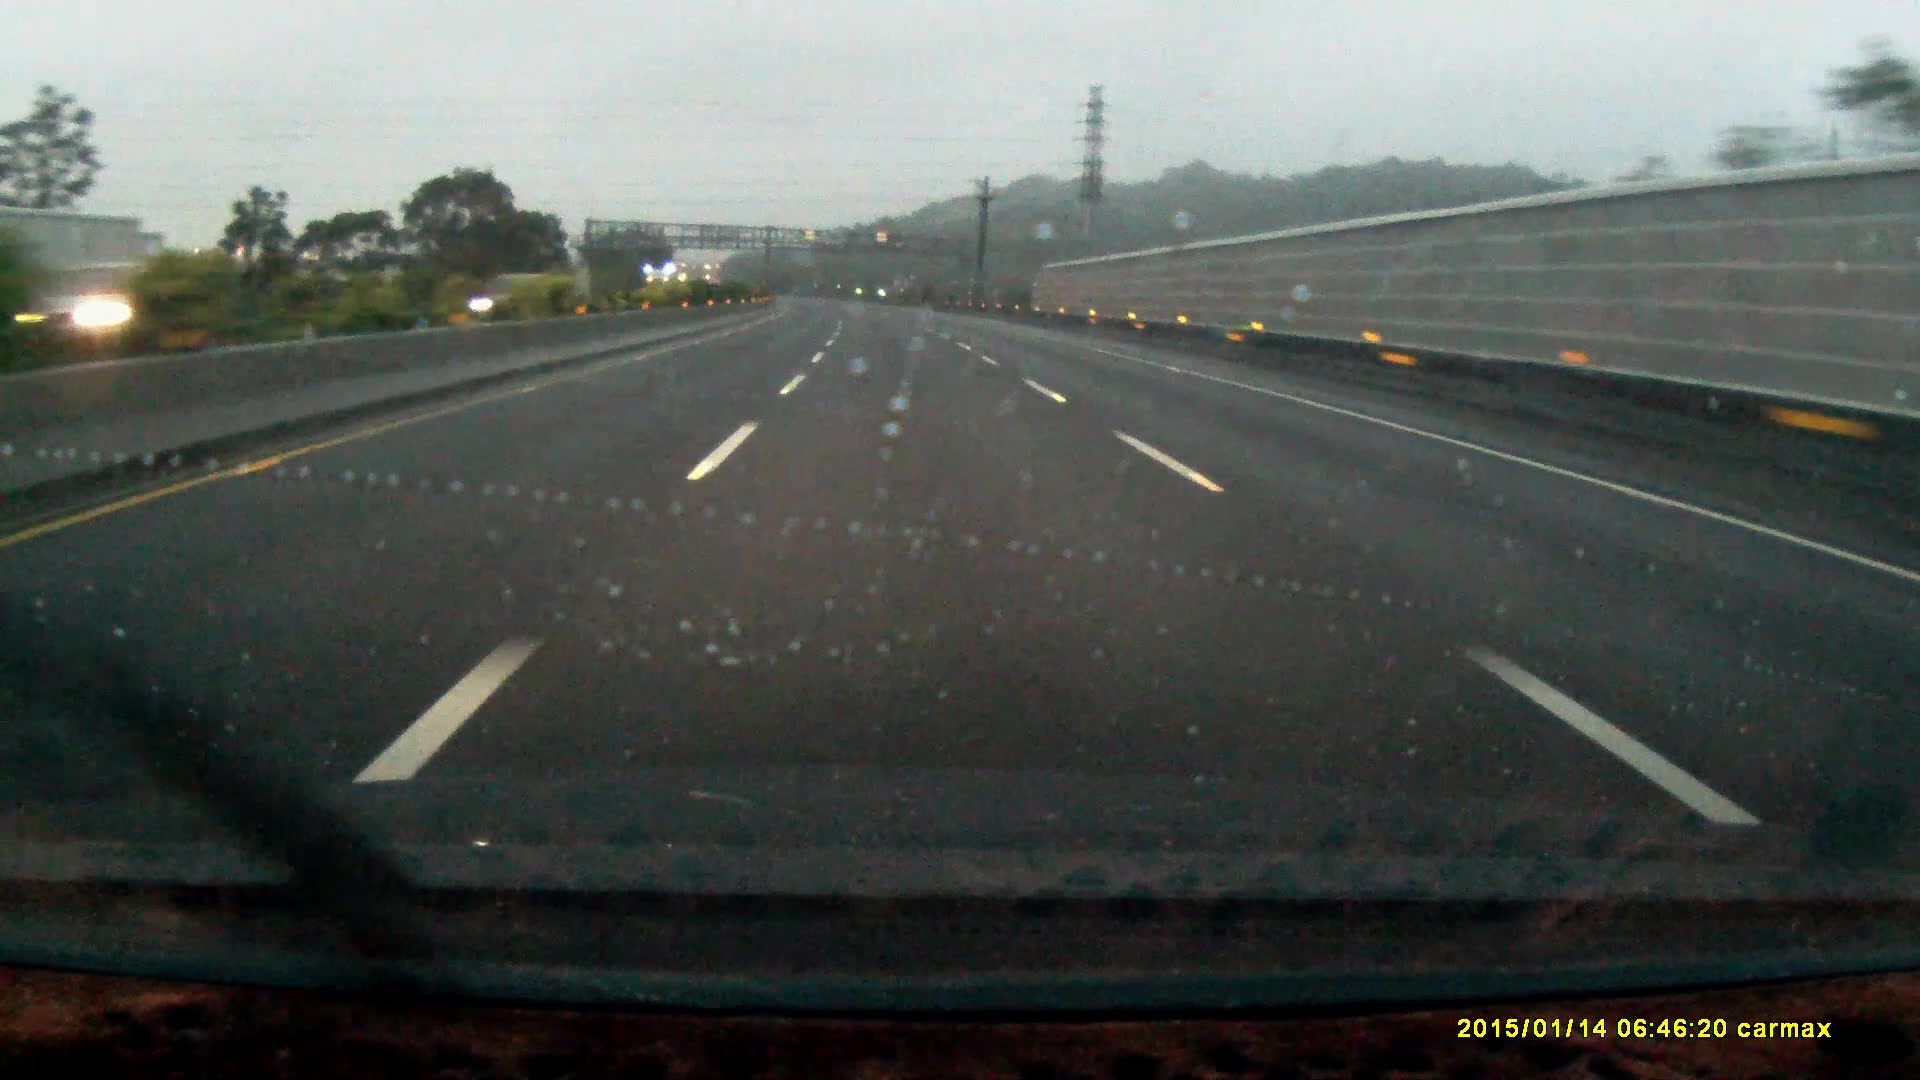vehicle: (431, 273, 516, 320), (646, 264, 688, 306)
